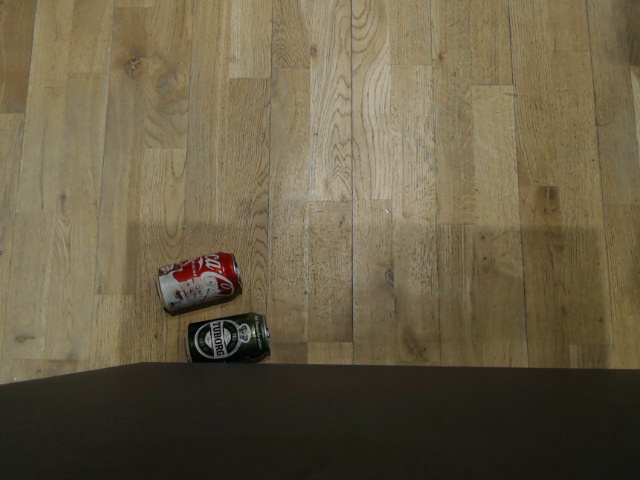beer: (179, 313, 269, 365)
cola: (150, 247, 243, 309)
